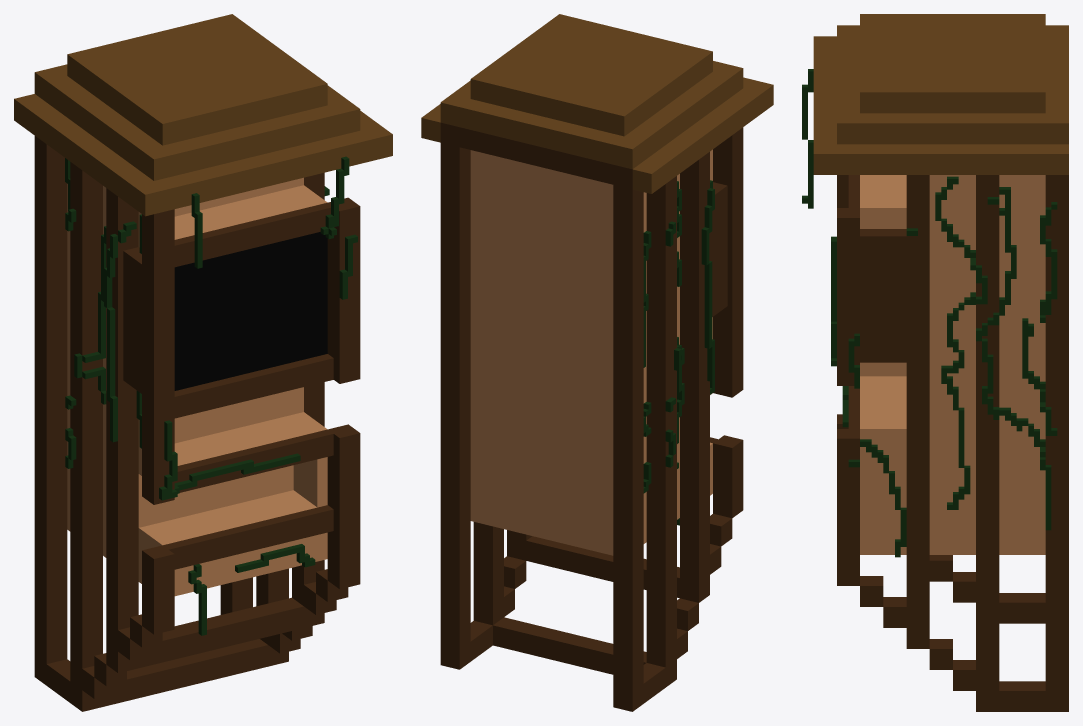
Rendered from JungleBuilding2.obj.
The picture shows the model from 3 angles, left to right: view 1: azimuth 30°, elevation 25°; view 2: azimuth 150°, elevation 25°; view 3: azimuth 270°, elevation 25°; orthographic projection. The views are drawn at different scales.
Size of the model in its own units: 4.8 by 11.6 by 4.6.
1 material, 1 textured.
